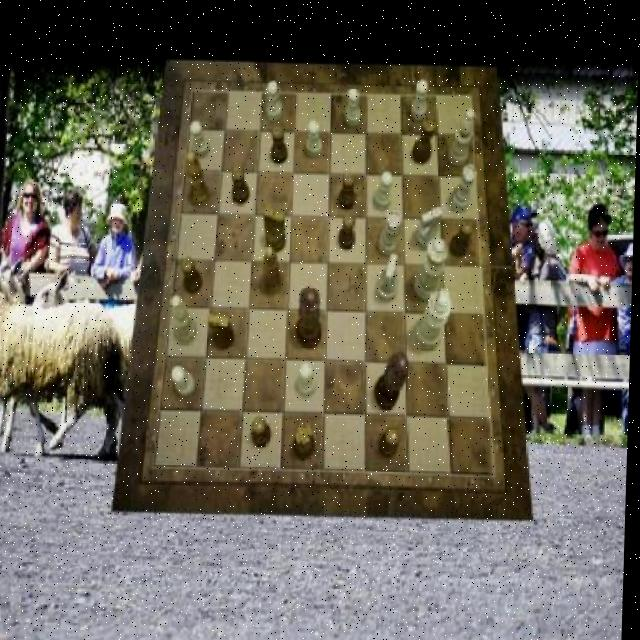bishop: (185, 151, 210, 206), (262, 245, 283, 294)
black-bishop: (375, 350, 412, 409)
black-king: (264, 206, 288, 252), (209, 312, 237, 348)
black-knight: (451, 217, 475, 255), (182, 256, 204, 293), (338, 171, 356, 209), (272, 125, 290, 163), (381, 427, 403, 458), (339, 212, 357, 248), (233, 166, 251, 202), (253, 415, 273, 446)
black-pawn: (297, 284, 324, 347)
black-queen: (412, 115, 437, 163), (295, 421, 318, 458)
black-rook: (447, 106, 475, 165), (172, 294, 198, 344)
white-bishop: (416, 286, 455, 349)
white-king: (415, 204, 443, 249), (377, 253, 401, 303)
white-knight: (189, 119, 210, 156), (173, 365, 198, 396), (375, 170, 395, 208), (410, 78, 428, 120), (266, 80, 283, 122), (346, 86, 363, 125), (306, 118, 323, 155), (300, 361, 318, 395)
white-pawn: (415, 235, 450, 299)
white-queen: (451, 162, 478, 210), (380, 208, 403, 254)
